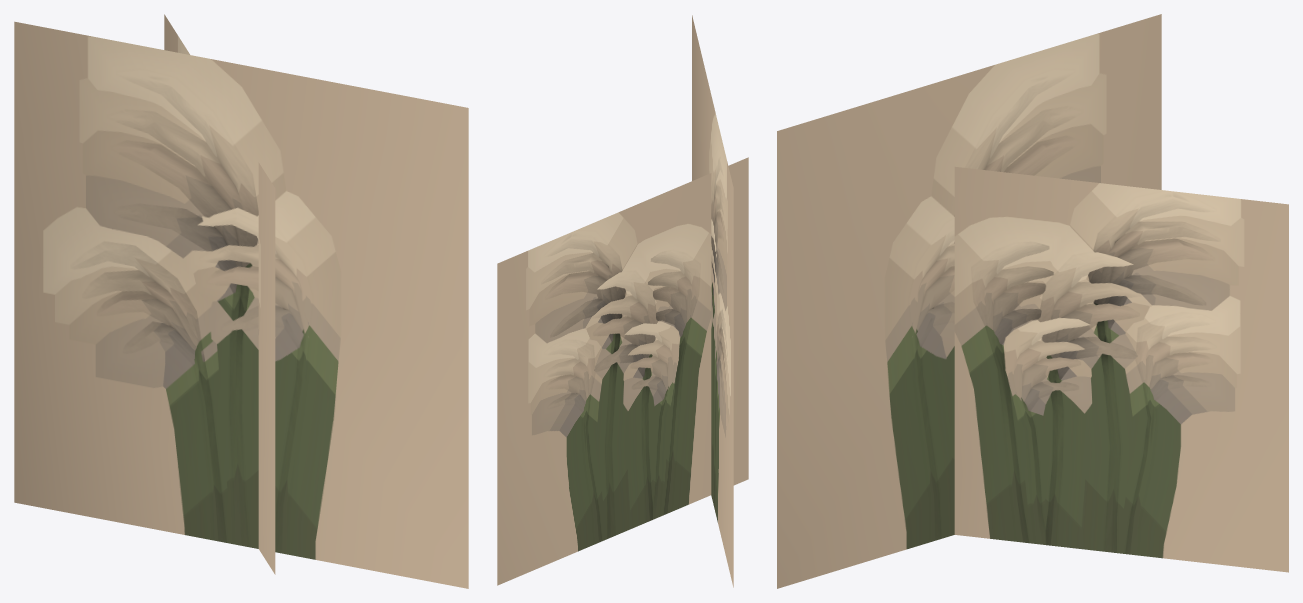
The model's file is SM_Env_Grass_Tall_Clump_01.fbx.
3 views of the same model, side by side, from view 1: azimuth 30°, elevation 25°; view 2: azimuth 150°, elevation 25°; view 3: azimuth 270°, elevation 25° (orthographic). The views are drawn at different scales.
Visible parts, largest first — view 1: SM_Env_Grass_Tall_Clump_01_LOD0; view 2: SM_Env_Grass_Tall_Clump_01_LOD0; view 3: SM_Env_Grass_Tall_Clump_01_LOD0.
Part boxes in pixels (<box>): SM_Env_Grass_Tall_Clump_01_LOD0: <box>14,14,468,588</box>; SM_Env_Grass_Tall_Clump_01_LOD0: <box>497,15,748,587</box>; SM_Env_Grass_Tall_Clump_01_LOD0: <box>777,14,1288,588</box>.
Size of what is drawn, in the model's own units: 58.47 by 107 by 108.
